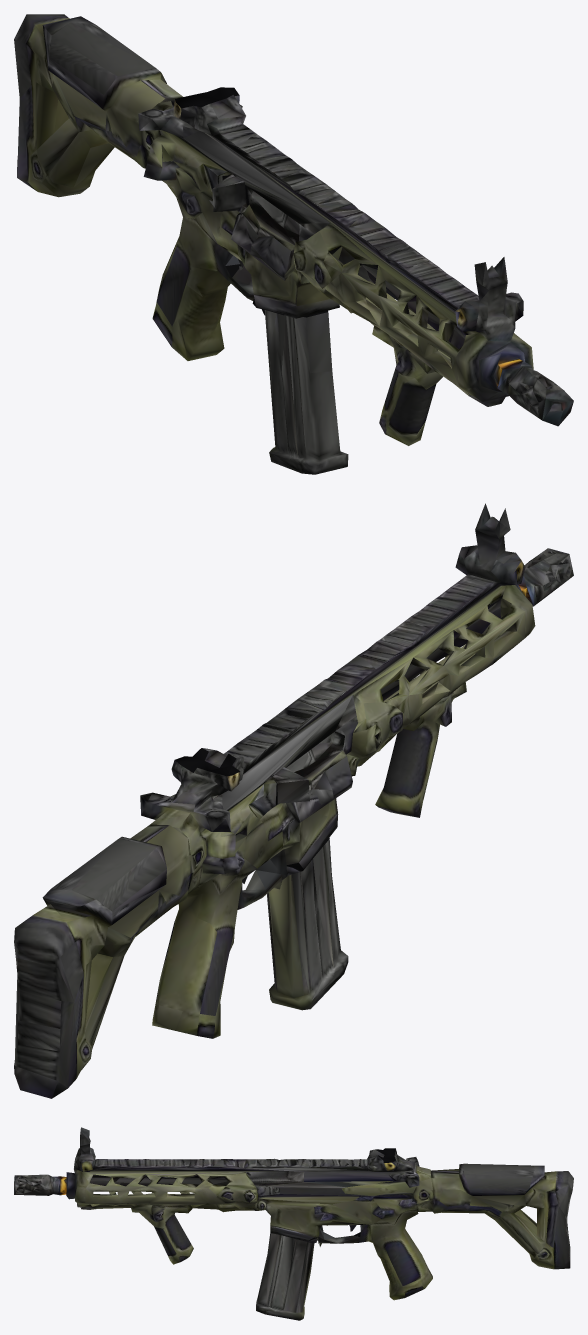
The model's file is wpn_ar_lancer_tp.glb.
The picture shows the model from 3 angles, top to bottom: view 1: azimuth 30°, elevation 25°; view 2: azimuth 150°, elevation 25°; view 3: azimuth 270°, elevation 25°; orthographic projection. The views are drawn at different scales.
Parts seen in each view (by area): view 1: body, mag, bolt; view 2: body, mag, bolt; view 3: body, mag.
Part boxes in pixels (left/top/right/bottom): body: left=14, top=14, right=573, bottom=445; mag: left=252, top=297, right=348, bottom=474; bolt: left=212, top=174, right=247, bottom=213; body: left=14, top=503, right=573, bottom=1098; mag: left=267, top=838, right=348, bottom=1010; bolt: left=272, top=767, right=309, bottom=804; body: left=14, top=1127, right=573, bottom=1300; mag: left=256, top=1233, right=318, bottom=1320.
Bounding box in the file's own units: 0.0889 × 0.3145 × 0.8571.
1 material, 1 textured.
